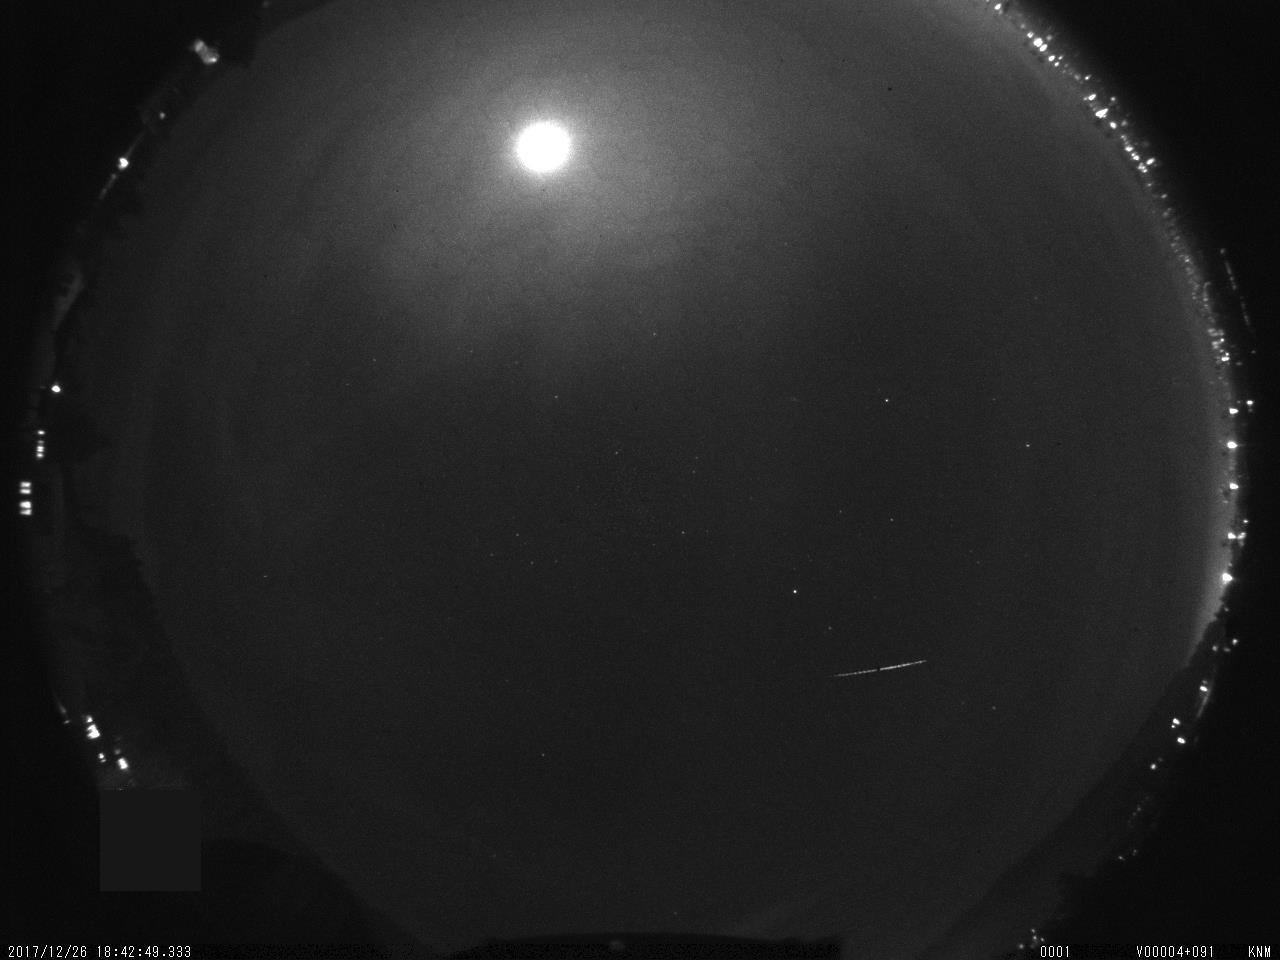Meteor: (825, 651, 937, 690)
